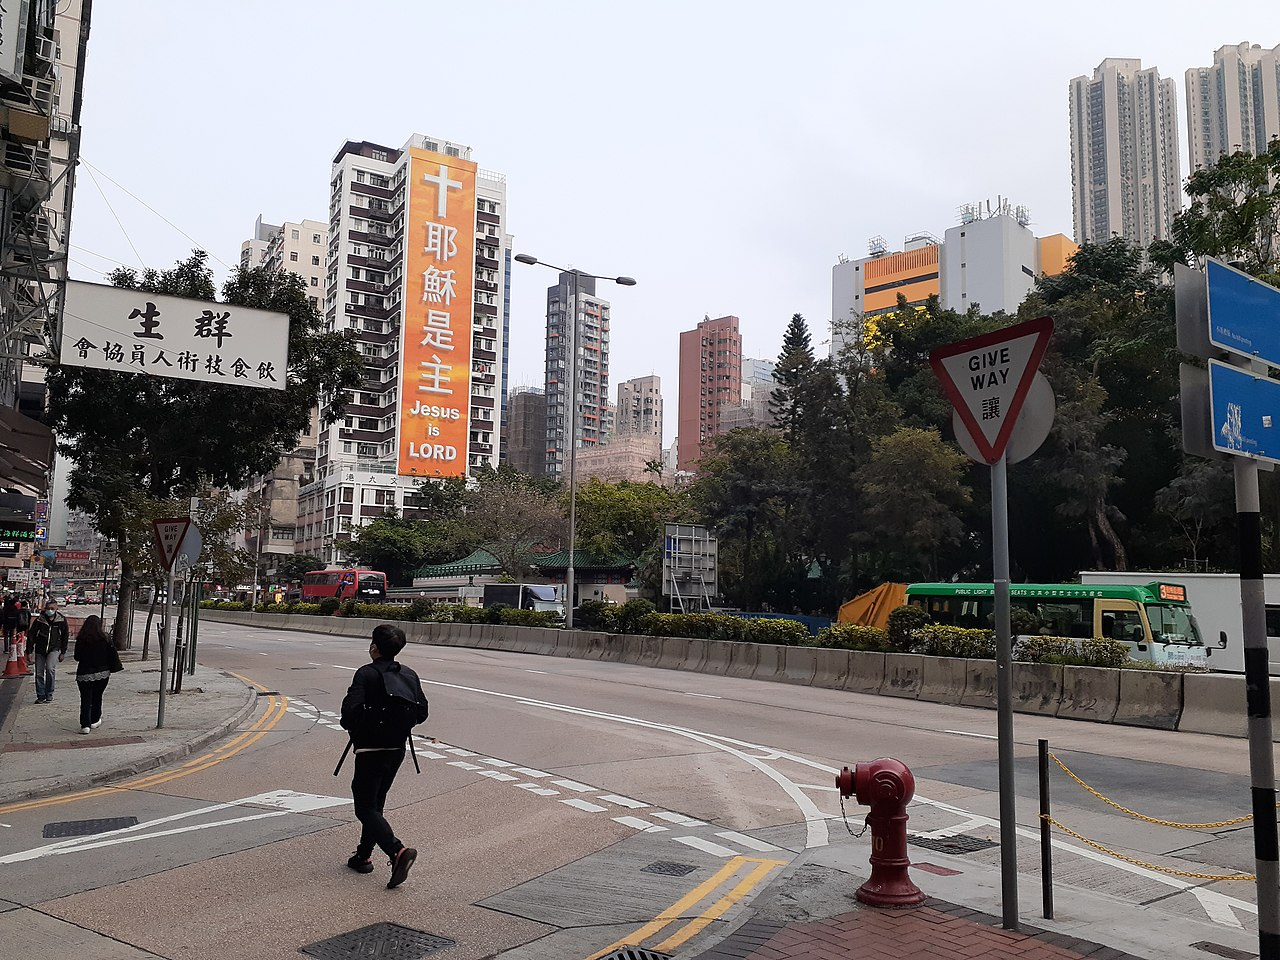Give Way: (929, 313, 1061, 461), (153, 518, 191, 573)
Start Of No Stopping: (100, 539, 117, 566)
